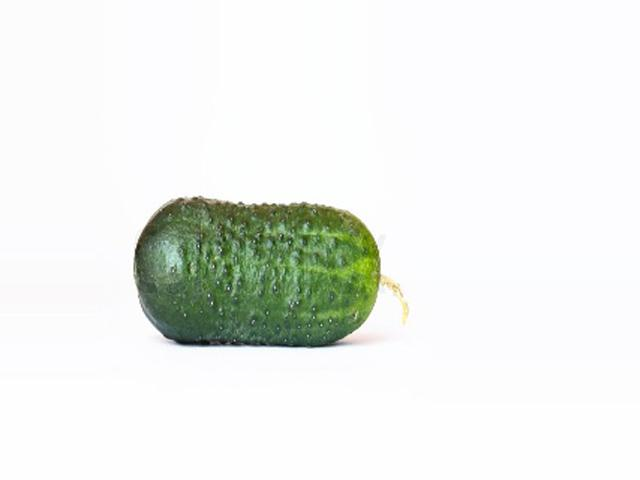cucumber: (135, 194, 409, 347)
